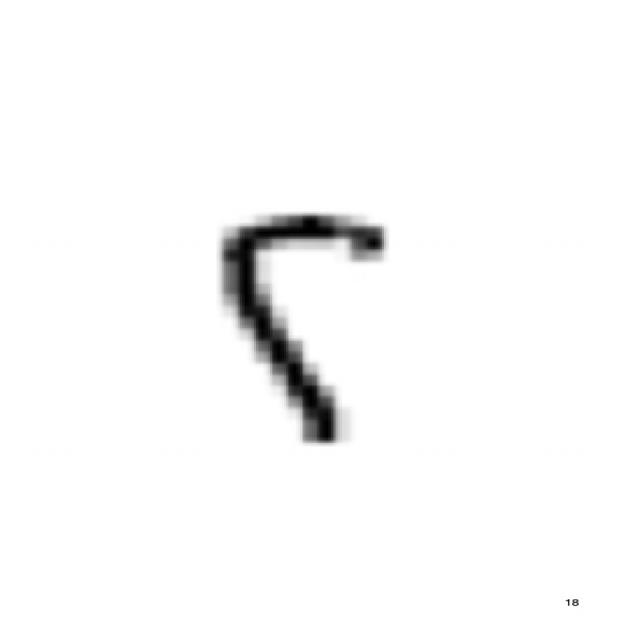2 -two-: (199, 196, 400, 462)
